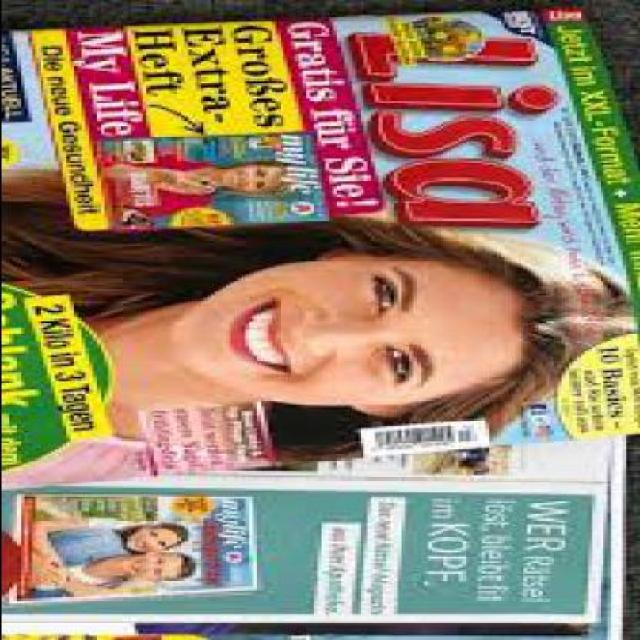PAPER: (3, 5, 639, 489), (4, 430, 628, 638)
